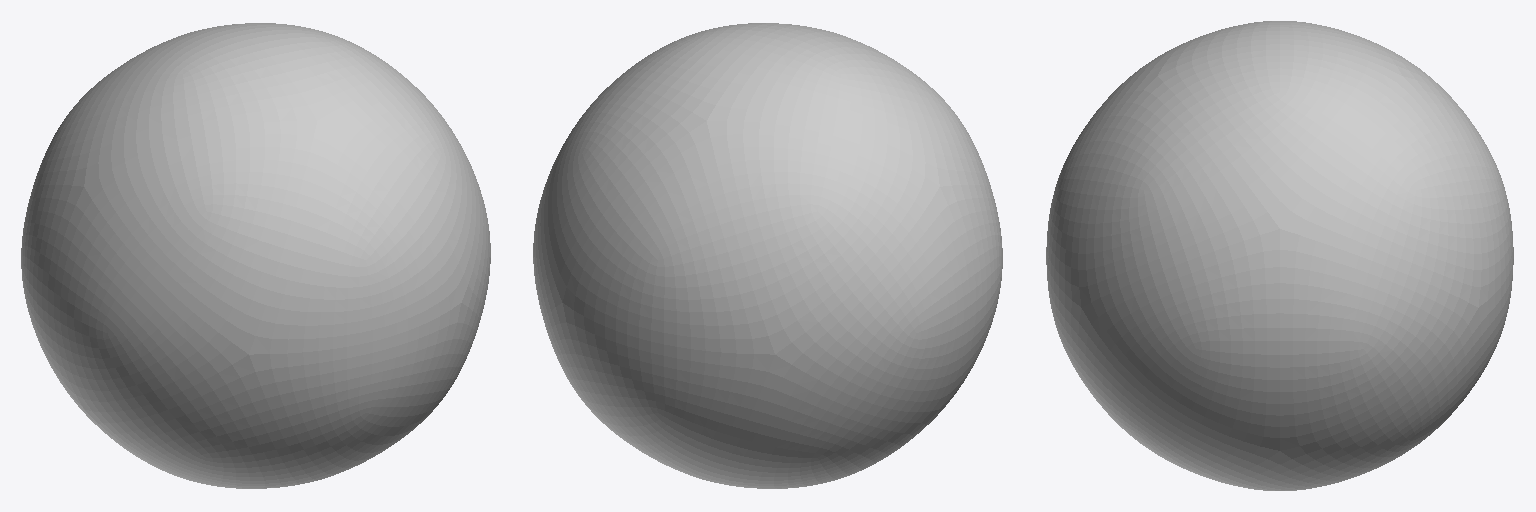
3 views of the same model, side by side, from view 1: azimuth 30°, elevation 25°; view 2: azimuth 150°, elevation 25°; view 3: azimuth 270°, elevation 25° (orthographic).
Parts seen in each view (by area): view 1: icosahedron1; view 2: icosahedron1; view 3: icosahedron1.
Part boxes in pixels (left/top/right/bottom): icosahedron1: left=21, top=23, right=490, bottom=488; icosahedron1: left=533, top=23, right=1002, bottom=488; icosahedron1: left=1046, top=21, right=1513, bottom=490.
Bounding box in the file's own units: 2.98 × 2.98 × 2.98.